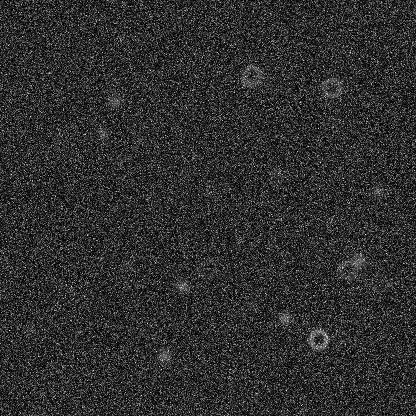Ring: (335, 257, 359, 281), (239, 63, 263, 87), (194, 256, 218, 280), (319, 75, 343, 99), (367, 271, 391, 295), (306, 327, 330, 351)
Spot: (106, 93, 122, 109), (369, 183, 385, 199), (242, 296, 258, 312), (269, 166, 285, 182), (276, 310, 292, 326), (351, 252, 367, 268), (174, 278, 190, 294), (155, 348, 171, 364), (120, 255, 136, 271), (22, 320, 38, 336), (94, 125, 110, 141)
